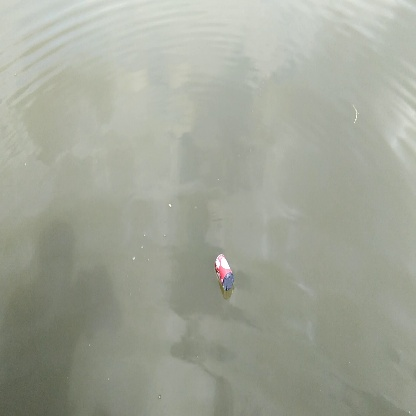bottle: (207, 251, 245, 298)
